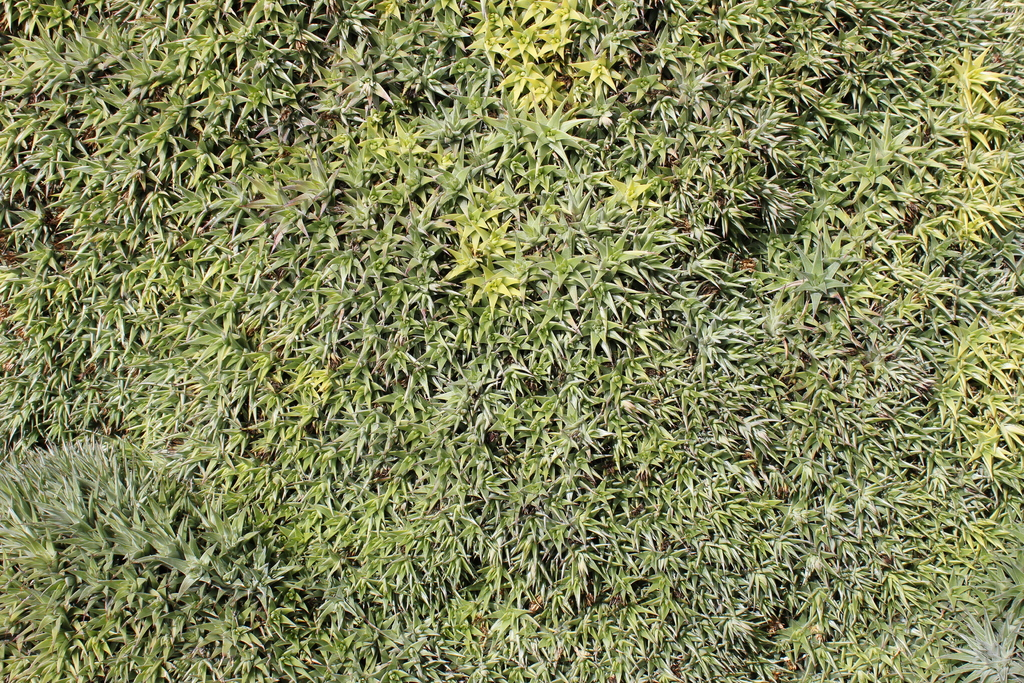person: (474, 604, 557, 637)
